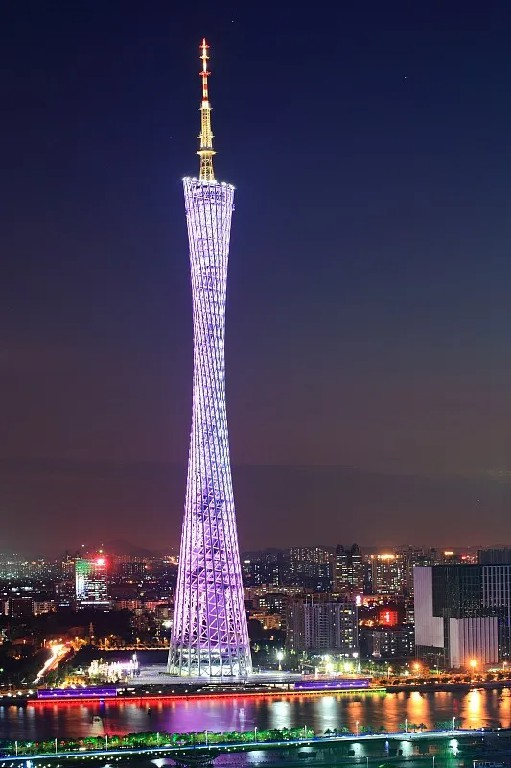Canton: (165, 38, 253, 680)
